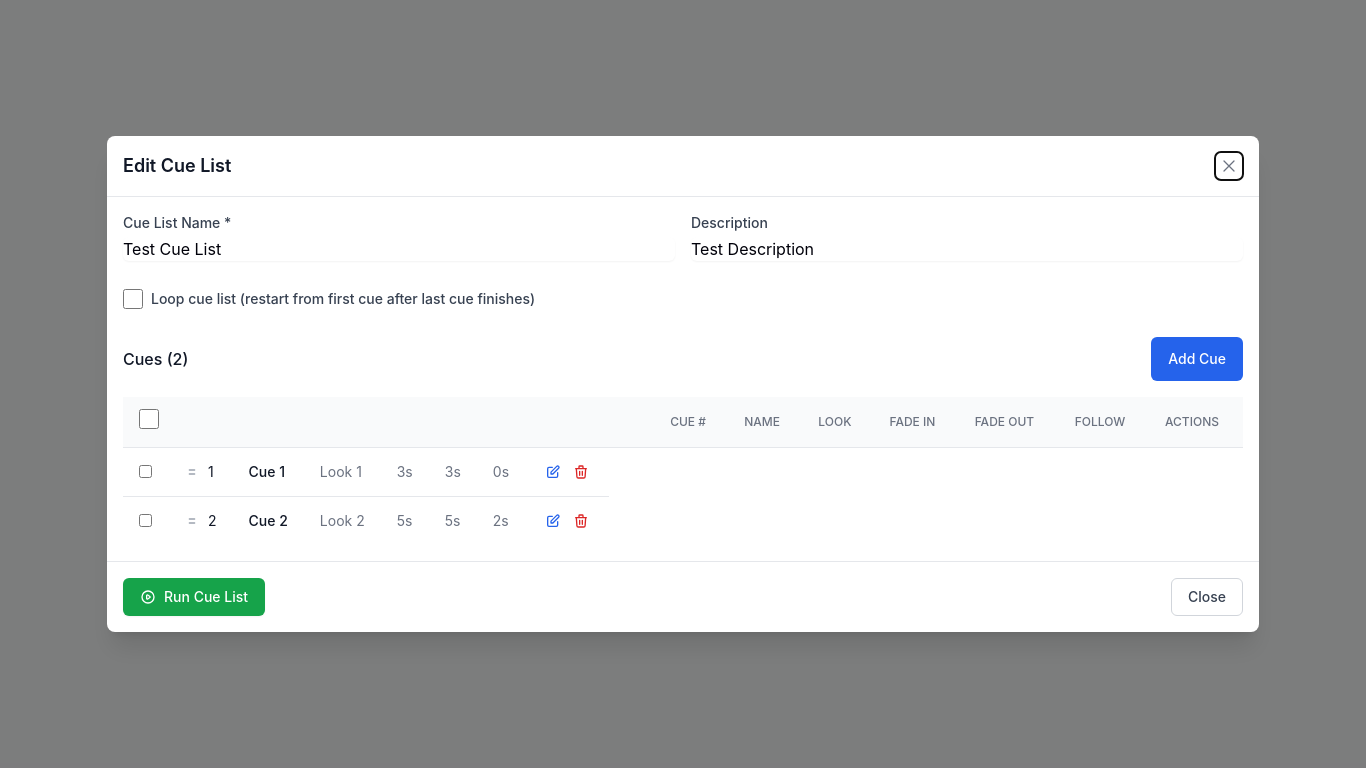
it: CueListEditorModal › cue editing › enables inline editing when edit button clicked
Expected: the text "Cue 1" is shown, [232,448,304,496]
Click the button titled "Edit cue" in the row of "Cue 1": (553, 472) [541,460,565,484]
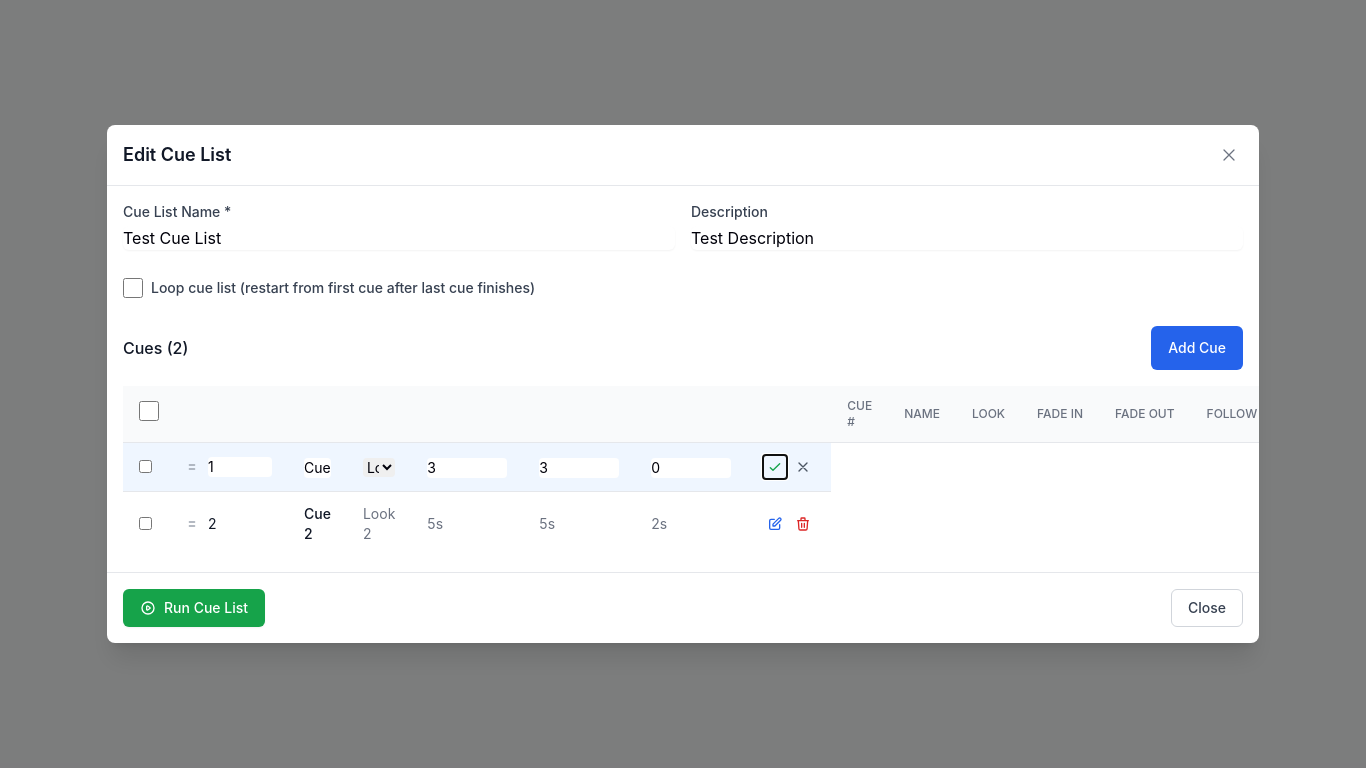
Expected: the field showing "Cue 1" is shown, [304,458,331,478]
Expected: the 1st number field showing "1" is shown, [208,457,272,477]
Expected: the button titled "Save" is shown, [763,455,787,479]
